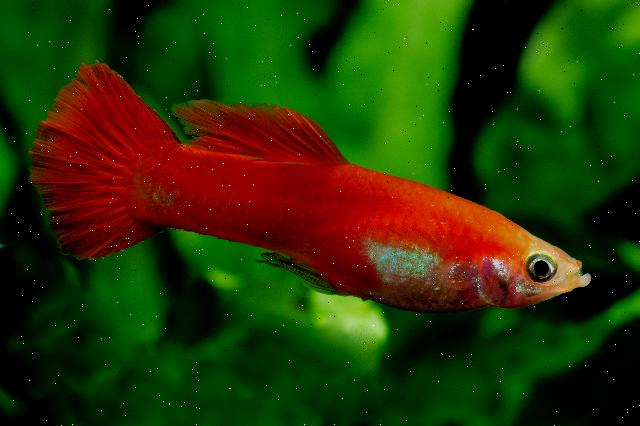Mulut: (522, 238, 610, 303)
Sirip Anal: (245, 233, 353, 312)
Sirip Ekor: (18, 52, 184, 276)
Sirip Punggung: (163, 86, 349, 177)
